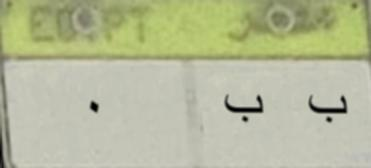0: (82, 94, 108, 127)
baa: (216, 88, 274, 130), (298, 89, 355, 127)
